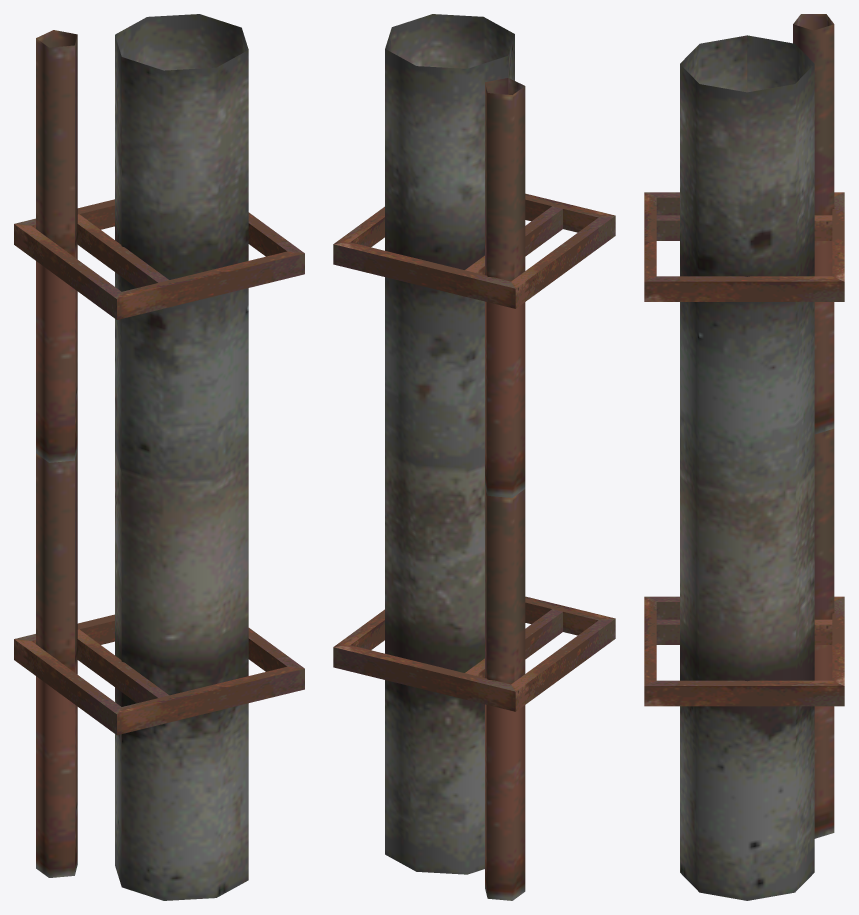
Rendered from Pipe_vertical_long.fbx.
The picture shows the model from 3 angles, left to right: view 1: azimuth 30°, elevation 25°; view 2: azimuth 150°, elevation 25°; view 3: azimuth 270°, elevation 25°; orthographic projection. The views are drawn at different scales.
Visible parts, largest first — view 1: Pipe_vertical_long; view 2: Pipe_vertical_long; view 3: Pipe_vertical_long.
Boxes of the visible parts, <box> form: Pipe_vertical_long: <box>14,14,304,900</box>; Pipe_vertical_long: <box>333,14,615,900</box>; Pipe_vertical_long: <box>644,14,844,900</box>.
Size of the model in its own units: 109 by 458 by 103.
